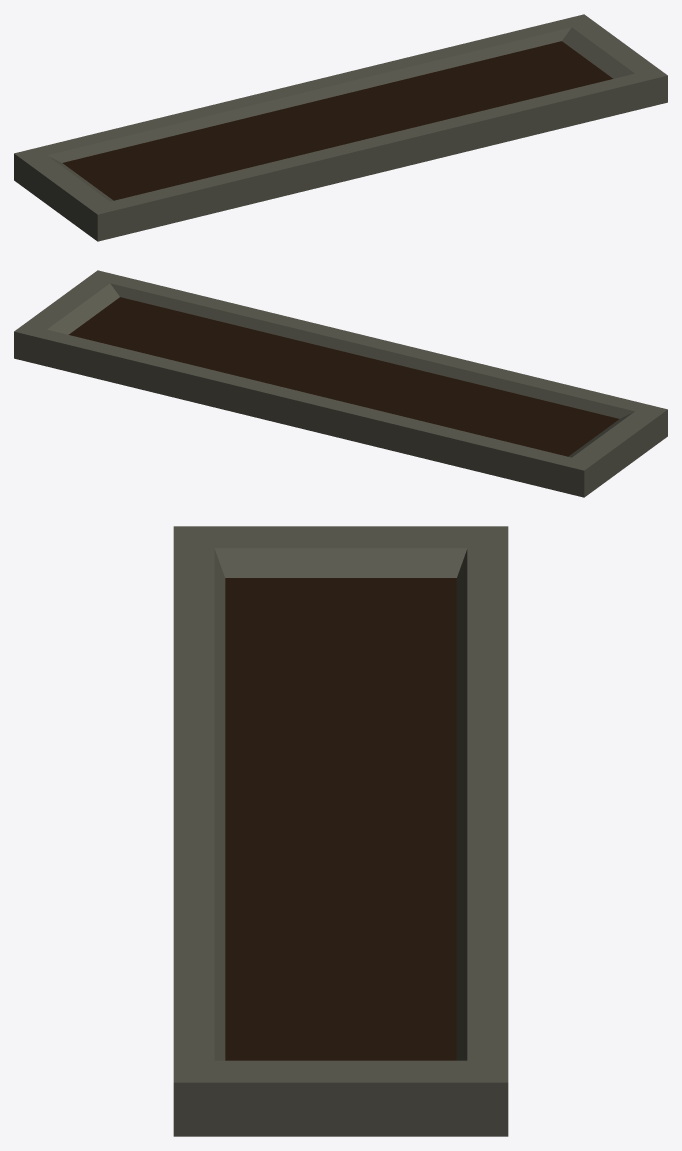
The model's file is FlowerBed.gltf.
3 views of the same model, one above another, from view 1: azimuth 30°, elevation 25°; view 2: azimuth 150°, elevation 25°; view 3: azimuth 270°, elevation 25° (orthographic). The views are drawn at different scales.
Parts seen in each view (by area): view 1: FlowerBed2; view 2: FlowerBed2; view 3: FlowerBed2.
Boxes of the visible parts, x1=… form: FlowerBed2: x1=14, y1=14, x2=667, y2=241; FlowerBed2: x1=14, y1=270, x2=667, y2=497; FlowerBed2: x1=173, y1=526, x2=508, y2=1136.
Size of the model in its own units: 4.66 by 0.2107 by 1.18.
